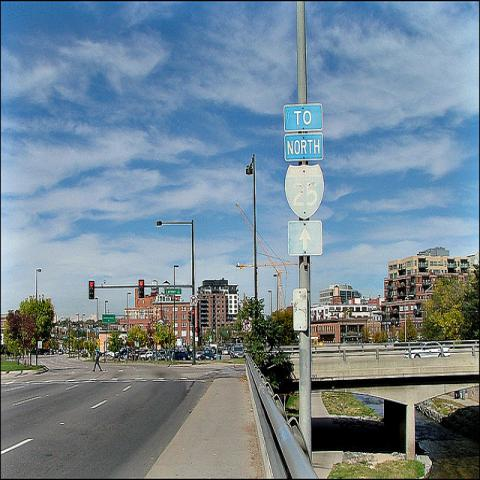car: (405, 341, 450, 359), (176, 346, 192, 362), (230, 345, 243, 360), (200, 349, 214, 361), (157, 350, 168, 360), (139, 352, 149, 360), (196, 350, 201, 360)
